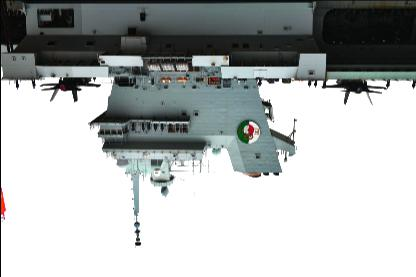F22: (320, 79, 388, 105), (39, 77, 101, 101)
